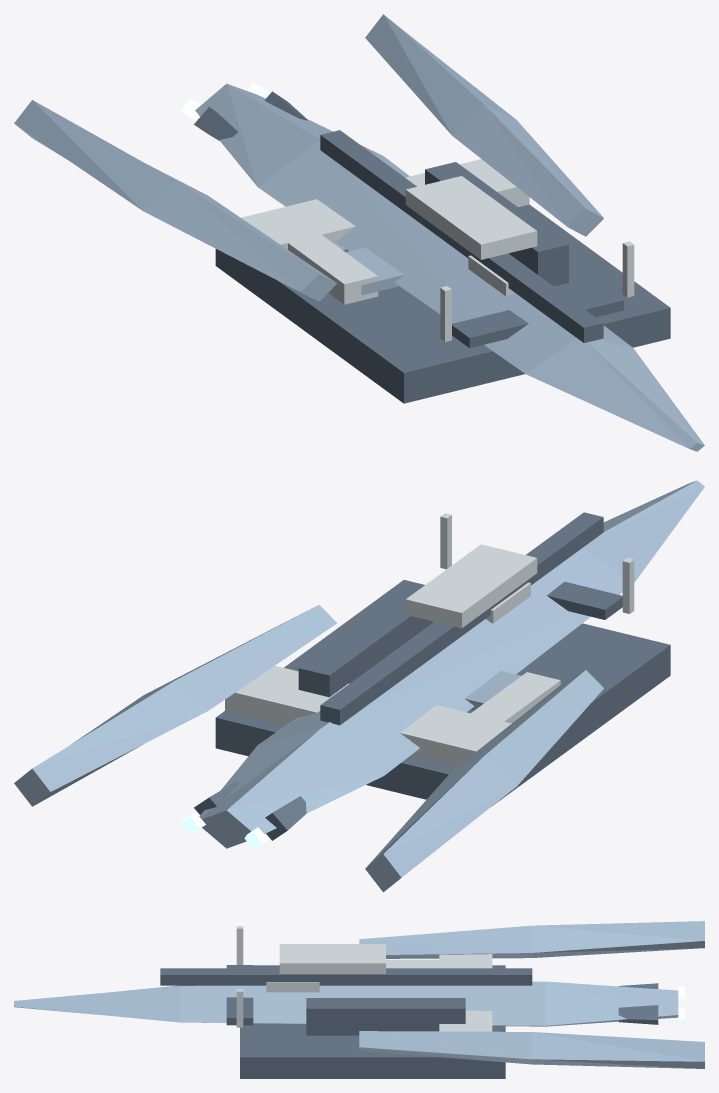
3 views of the same model, one above another, from view 1: azimuth 30°, elevation 25°; view 2: azimuth 150°, elevation 25°; view 3: azimuth 270°, elevation 25° (orthographic). The views are drawn at different scales.
Size of the model in its own units: 5.13 by 1.43 by 11.23.
